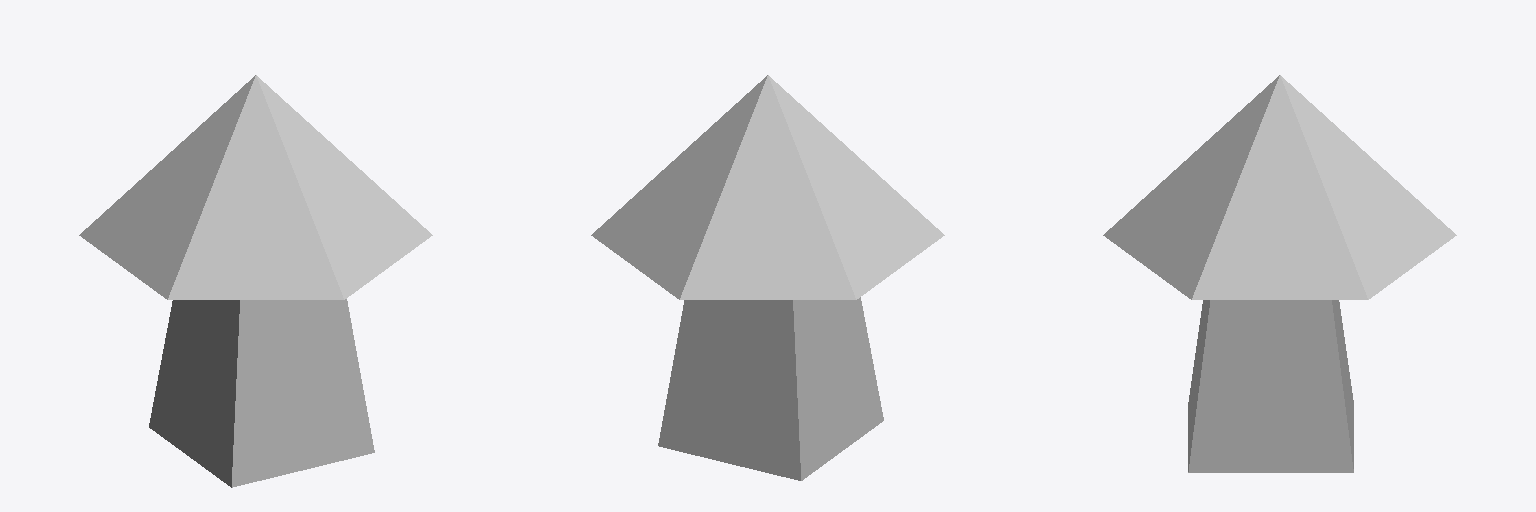
The model's file is Mushroom_Red_01.obj.
3 renders of one model, left to right at view 1: azimuth 30°, elevation 25°; view 2: azimuth 150°, elevation 25°; view 3: azimuth 270°, elevation 25°, orthographic.
Parts seen in each view (by area): view 1: Mesh1_Mushroom_Red_Model; view 2: Mesh1_Mushroom_Red_Model; view 3: Mesh1_Mushroom_Red_Model.
Part boxes in pixels (x1,y1,x2,y2): Mesh1_Mushroom_Red_Model: (79,75,432,487); Mesh1_Mushroom_Red_Model: (591,75,944,480); Mesh1_Mushroom_Red_Model: (1103,75,1456,472).
Bounding box in the file's own units: 0.4349 × 0.567 × 0.5022.